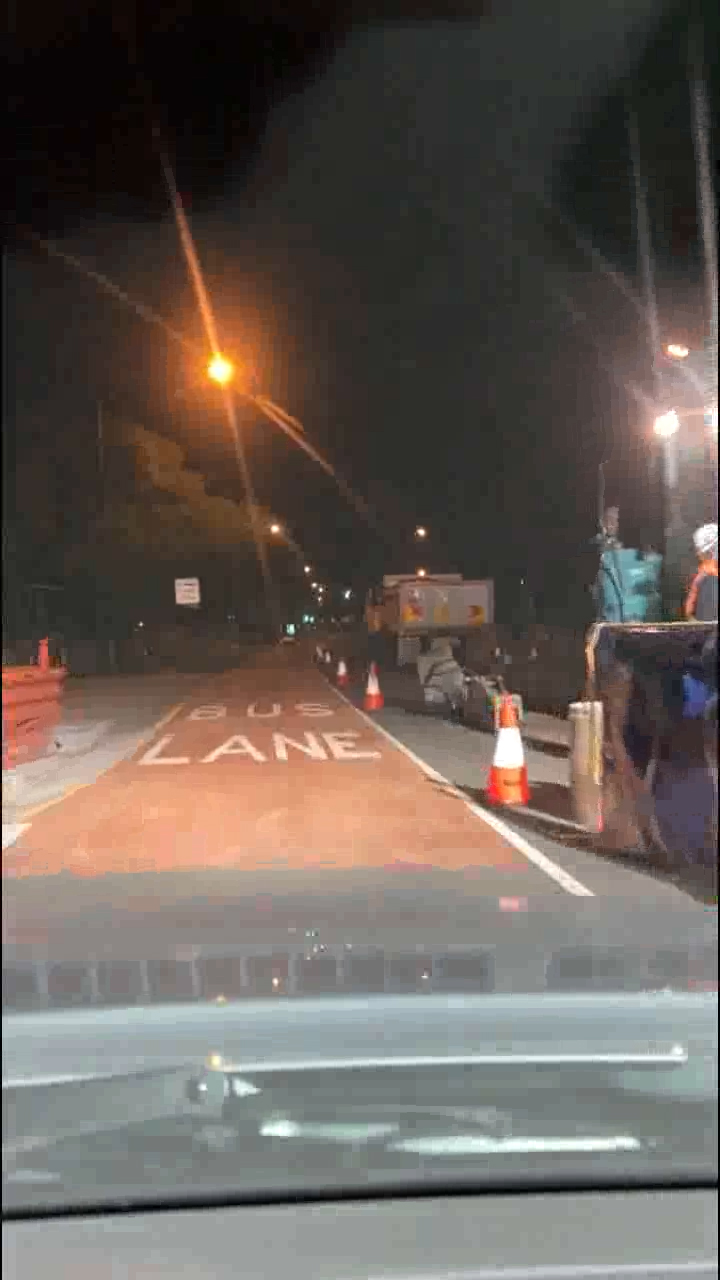person: (658, 507, 720, 598)
road cone: (479, 684, 537, 817), (1, 644, 70, 755), (356, 663, 385, 719), (329, 650, 358, 692)
truck: (375, 553, 499, 659)
